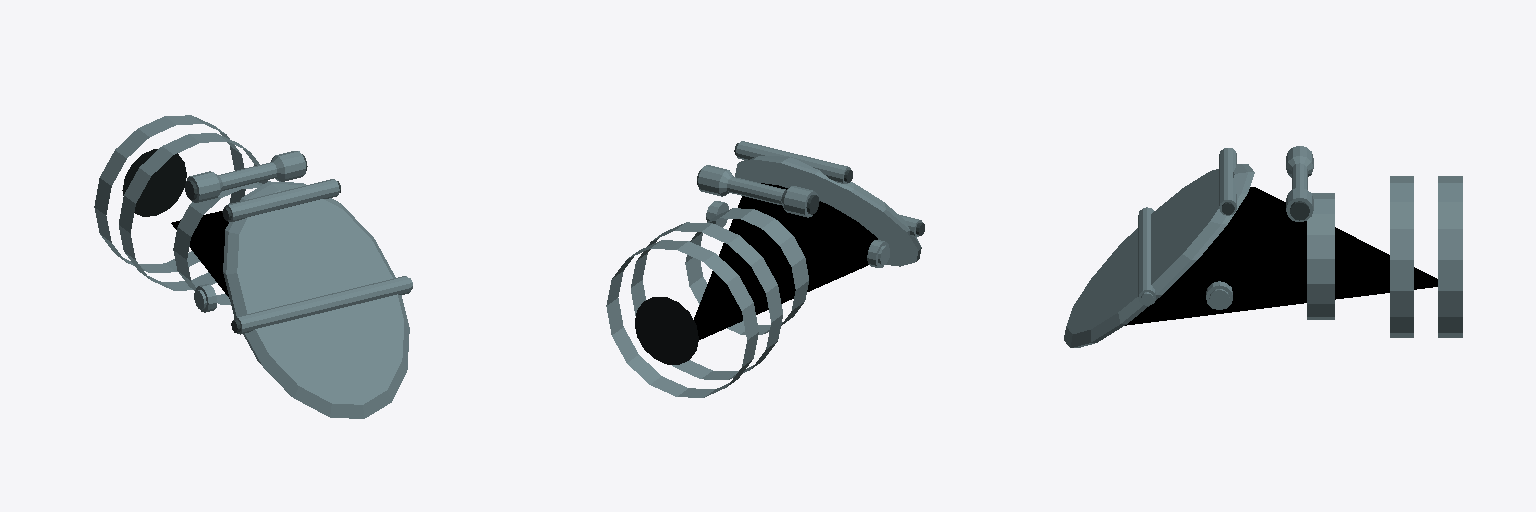
3 renders of one model, left to right at view 1: azimuth 30°, elevation 25°; view 2: azimuth 150°, elevation 25°; view 3: azimuth 270°, elevation 25°, orthographic.
Visible parts, largest first — view 1: fant_smoker_Circle; view 2: fant_smoker_Circle; view 3: fant_smoker_Circle.
Part boxes in pixels (bbox=[...]): fant_smoker_Circle: bbox=[94, 115, 412, 418]; fant_smoker_Circle: bbox=[606, 141, 924, 397]; fant_smoker_Circle: bbox=[1064, 146, 1462, 347].
Size of the model in its own units: 1 by 0.8602 by 2.
Materials: 1 (1 with a texture image).